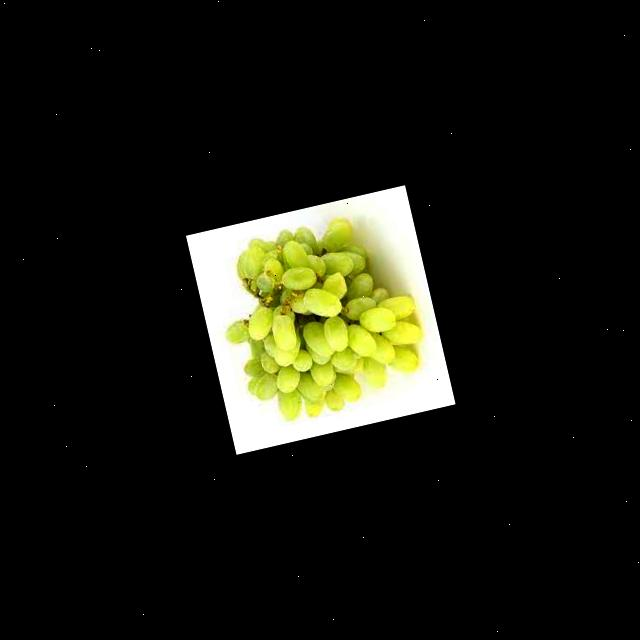grape: (203, 204, 434, 434)
